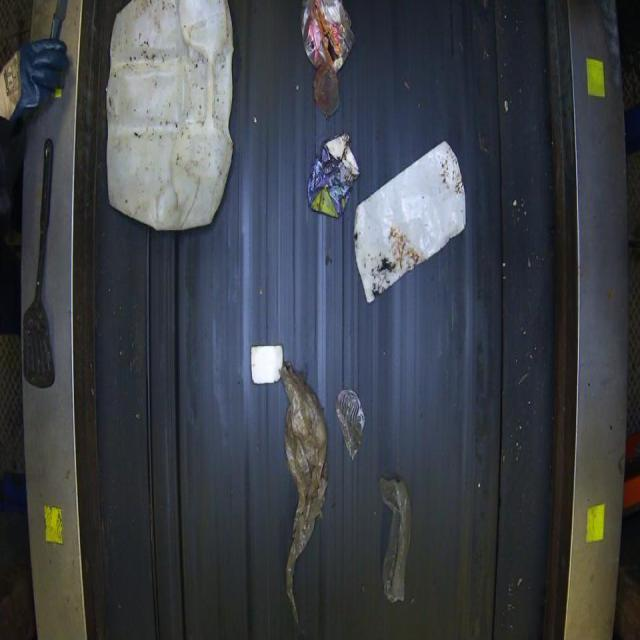cups: (249, 344, 283, 384)
organic-waste: (103, 0, 235, 231)
paper: (352, 140, 466, 303)
trashbin: (2, 0, 635, 639)
